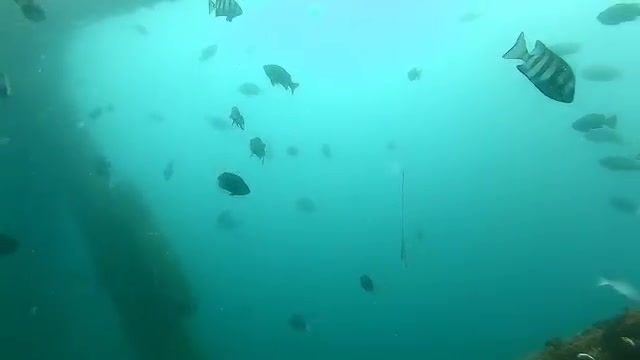ishidai: (500, 28, 590, 110)
smallfish: (213, 167, 268, 212), (261, 63, 310, 102), (244, 133, 284, 170), (600, 1, 638, 35), (575, 109, 621, 136), (211, 1, 247, 30)
